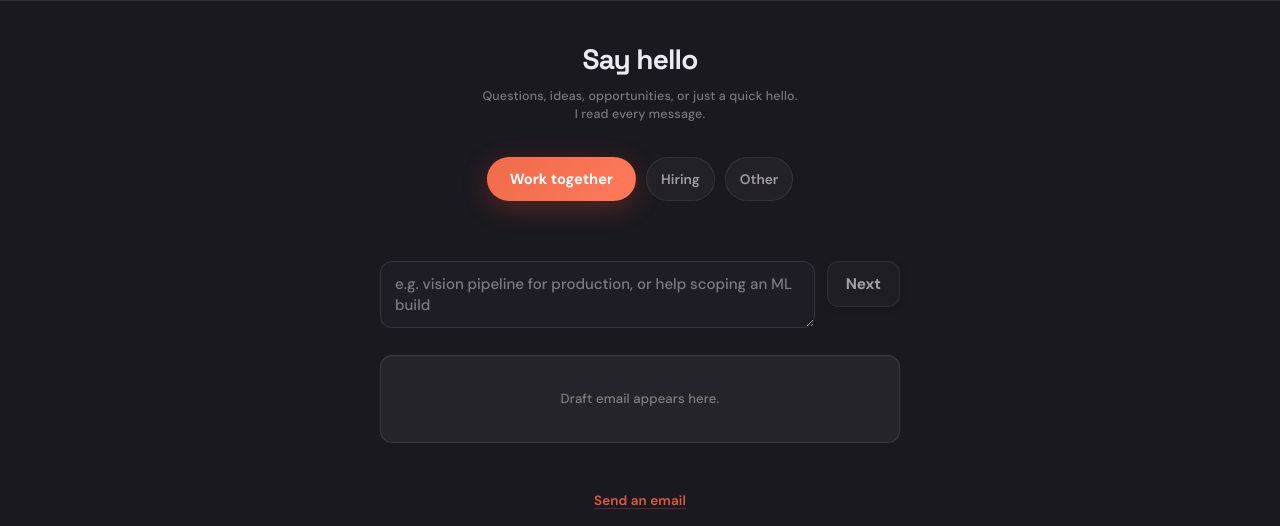
it: Contact › switches topic and updates placeholder hint
What coordinates should you click on to do the following:
click the button "Hiring"
I would click on:
 (680, 179)
Its box is left=646, top=157, right=715, bottom=201.
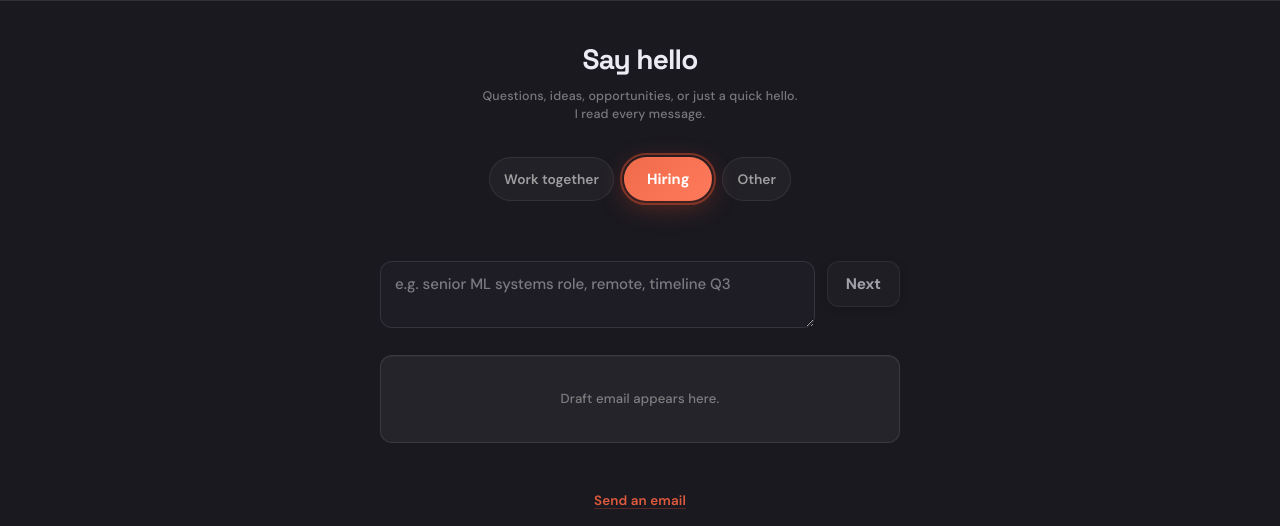
Now the text box with placeholder "e.g. senior ML systems role, remote, timeline Q3" is shown, box left=380, top=261, right=815, bottom=328
What coordinates should you click on to do the following:
click the button "Other"
I would click on:
 (757, 179)
Its box is left=722, top=157, right=791, bottom=201.
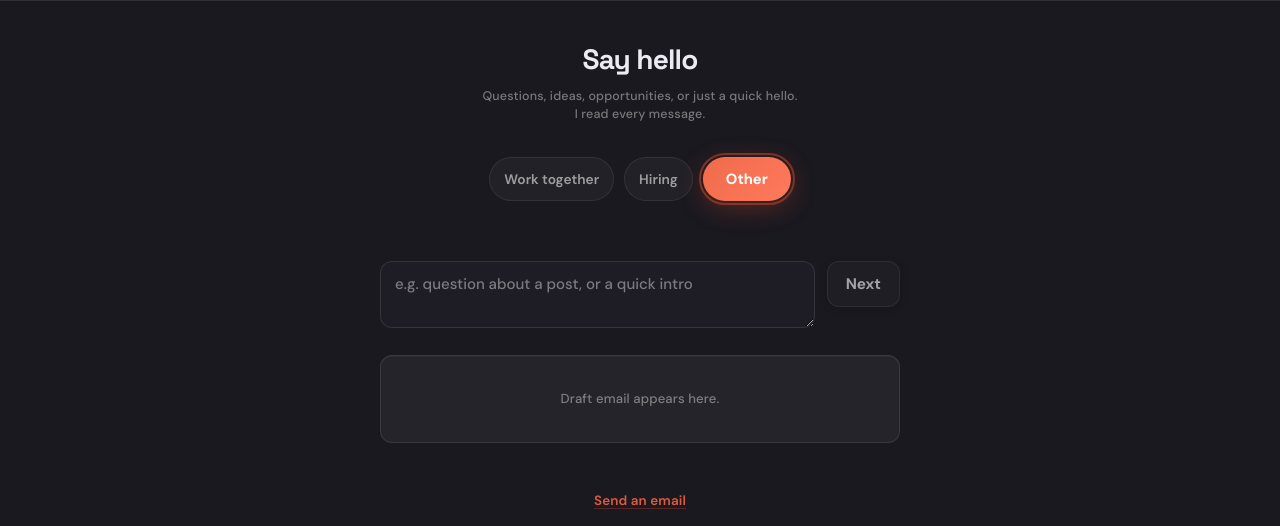
Now the text box with placeholder "e.g. question about a post, or a quick intro" is shown, box left=380, top=261, right=815, bottom=328
